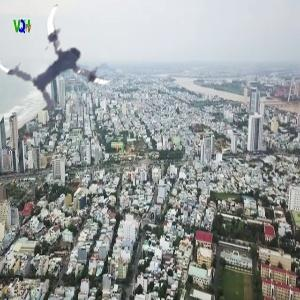drone: (10, 8, 119, 117)
